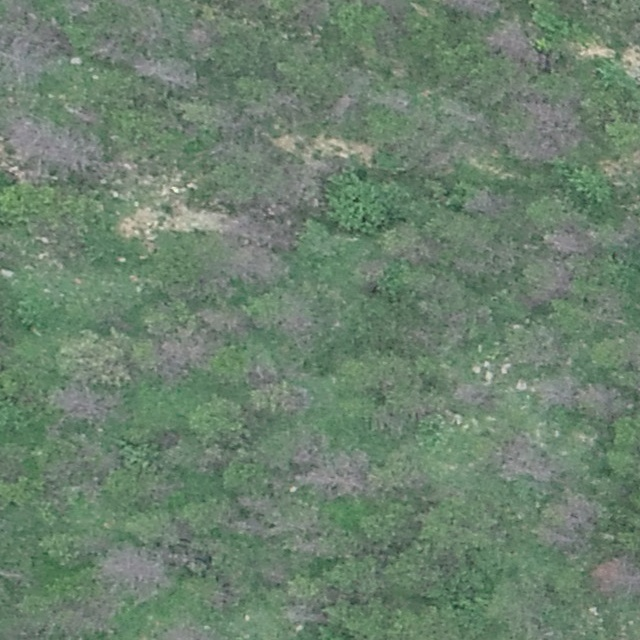unhealthy: (290, 432, 374, 498), (510, 96, 585, 162), (530, 375, 630, 423), (0, 12, 71, 76), (9, 118, 94, 171), (535, 489, 606, 549), (158, 323, 226, 385), (223, 93, 309, 141), (48, 446, 117, 505), (93, 543, 168, 596), (243, 362, 309, 416), (263, 158, 330, 208), (489, 13, 543, 74), (492, 437, 560, 480), (56, 597, 123, 640), (131, 54, 201, 95), (222, 209, 301, 244), (222, 245, 292, 283), (49, 381, 112, 421), (590, 555, 640, 600), (283, 585, 337, 626), (234, 494, 282, 540), (442, 304, 491, 346), (526, 265, 571, 309), (541, 222, 595, 258), (276, 301, 313, 347), (89, 33, 140, 64), (439, 97, 486, 129), (462, 186, 505, 217), (396, 231, 432, 267), (353, 257, 391, 290), (453, 381, 495, 409), (198, 309, 244, 334), (182, 25, 215, 59), (210, 577, 242, 611), (444, 0, 502, 18), (370, 88, 411, 111), (201, 445, 232, 472), (261, 559, 289, 585), (326, 95, 351, 118)
